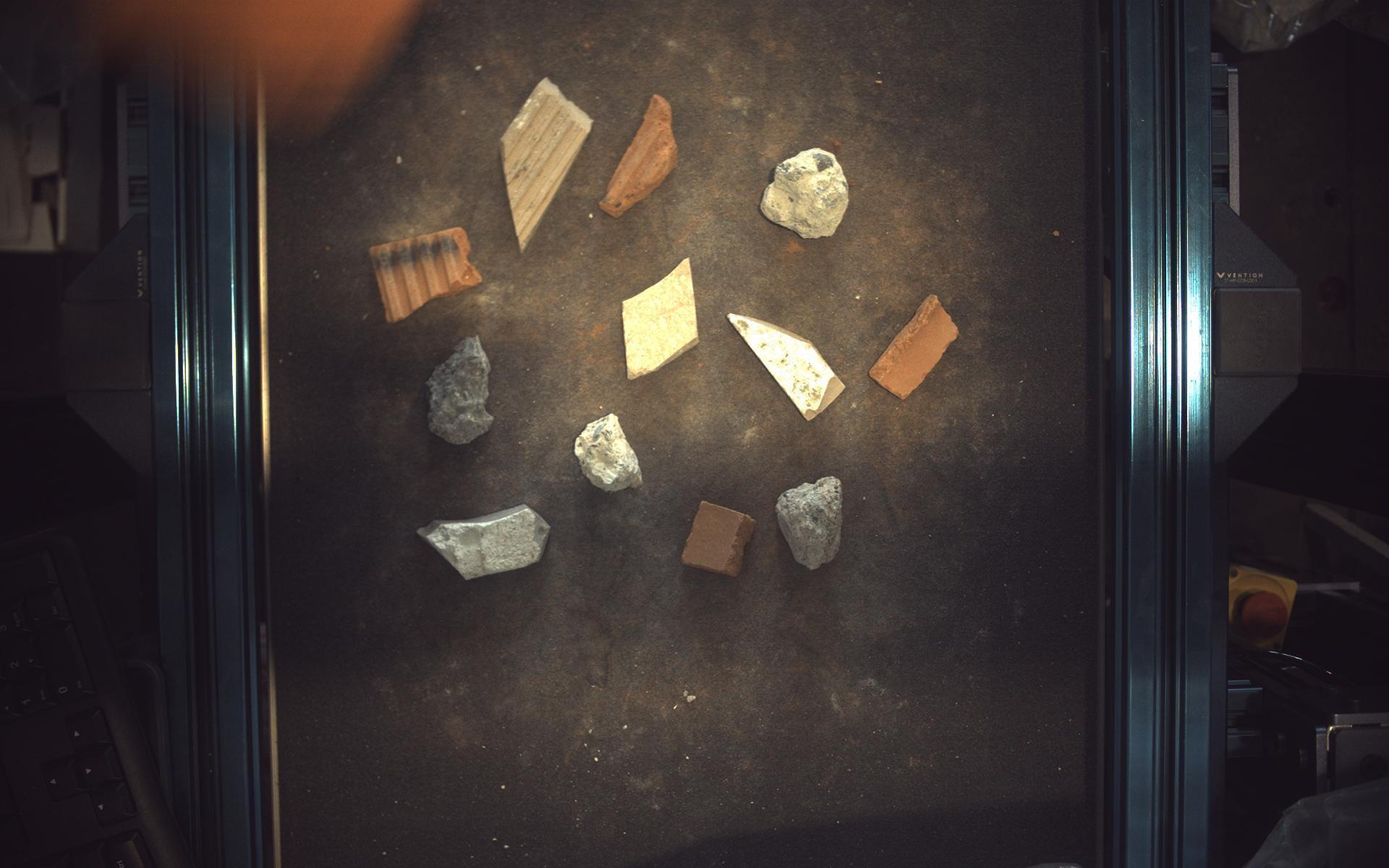brick: (369, 227, 481, 323), (599, 93, 679, 217), (871, 294, 961, 399), (683, 501, 757, 577)
concrete: (762, 147, 850, 237), (426, 335, 493, 445), (778, 477, 844, 571), (575, 414, 643, 492)
tile: (501, 77, 593, 250), (730, 313, 846, 420), (417, 505, 551, 580), (624, 257, 700, 380)
